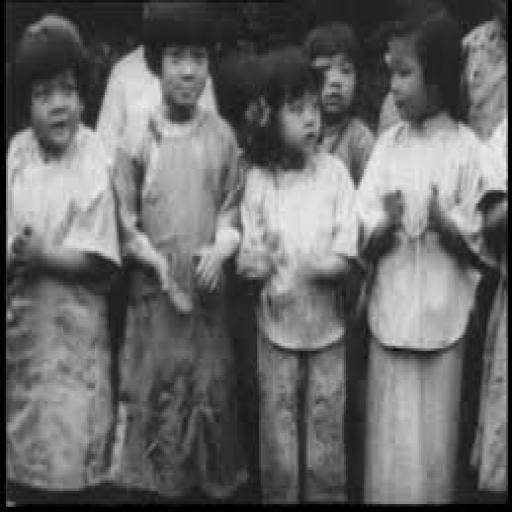clapping: (6, 3, 506, 504), (111, 2, 247, 502), (354, 8, 486, 504), (233, 45, 362, 504), (4, 13, 123, 496)
